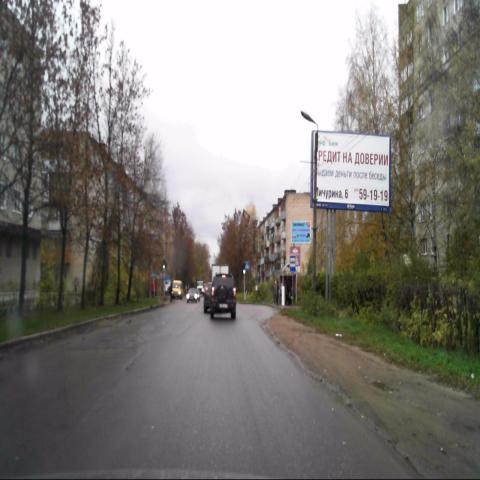5_16: (289, 255, 296, 273)
